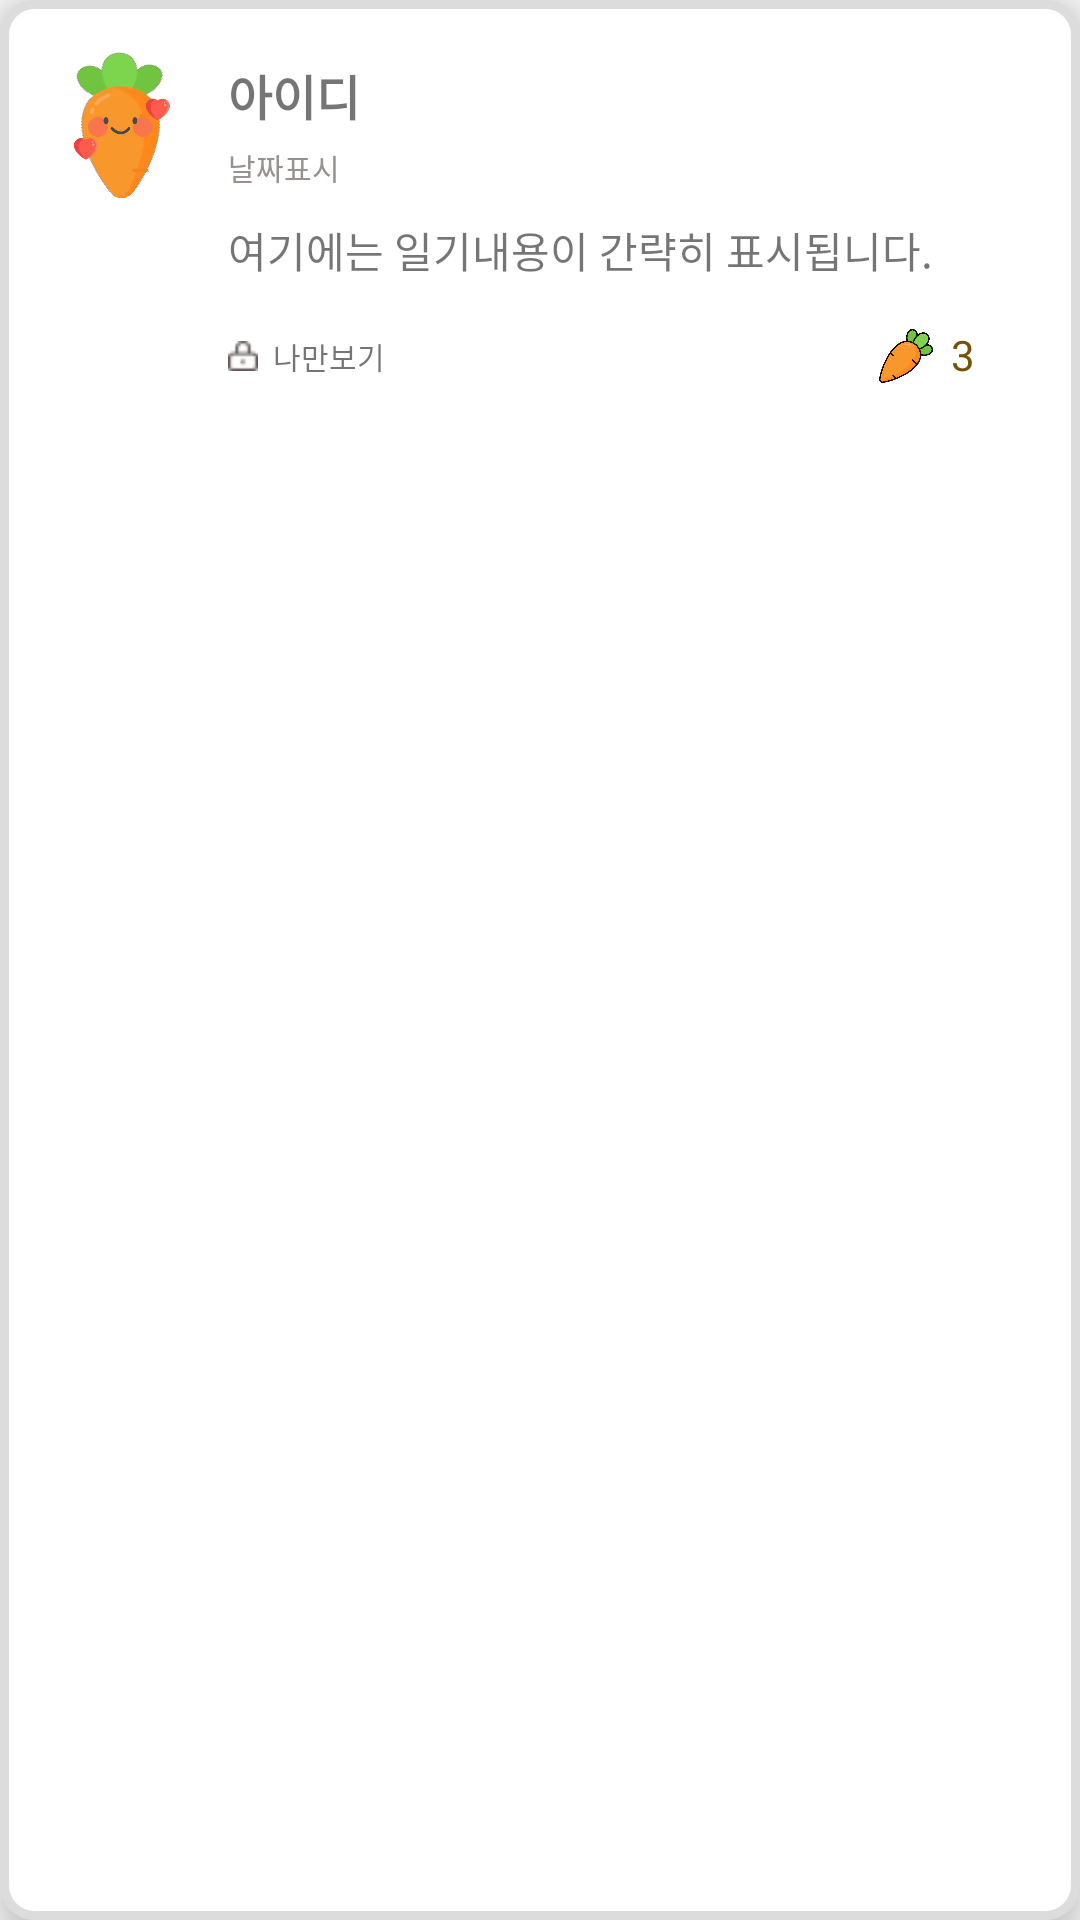

Point at icon controls on the screen. Image size 1080 × 1920, points as [x,y].
carrot: [906,356]
happy: [122,125]
lock: [243,356]
